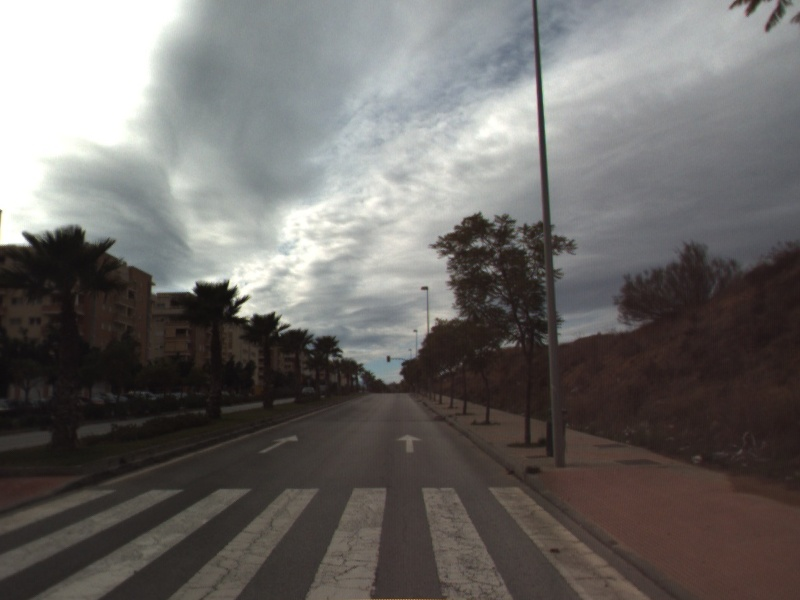STRAIGHT: (256, 433, 300, 455), (395, 432, 424, 455)
